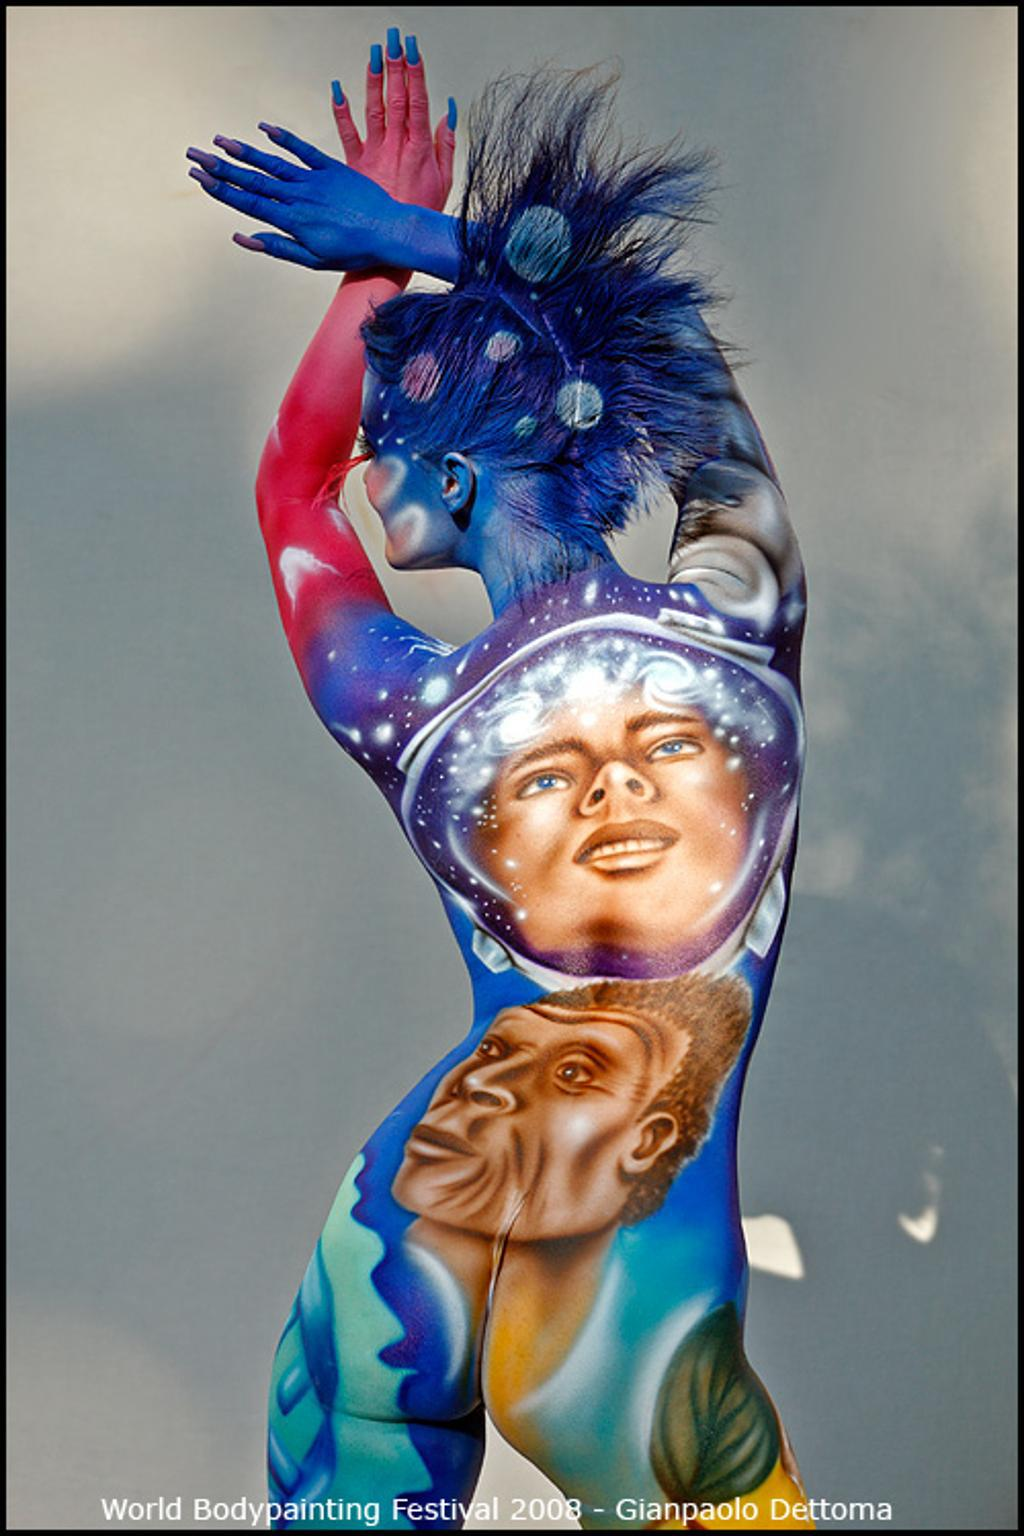face: (355, 364, 478, 577)
